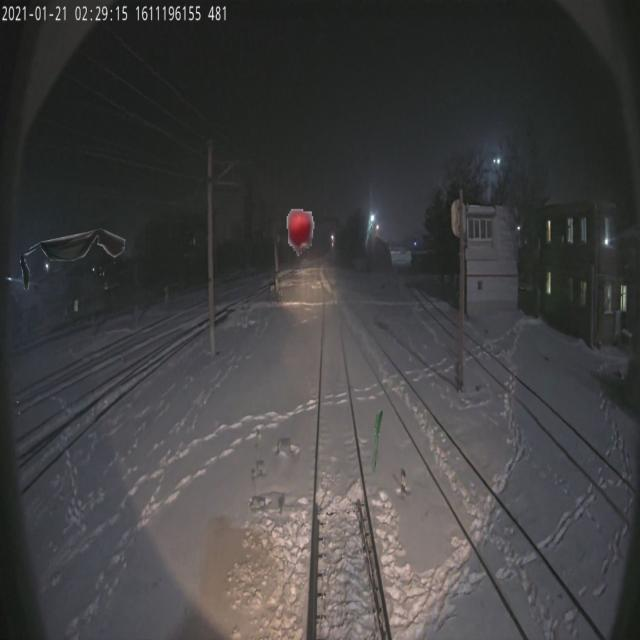balloon: (280, 204, 318, 268)
floating object: (20, 227, 127, 291), (371, 409, 383, 474)
